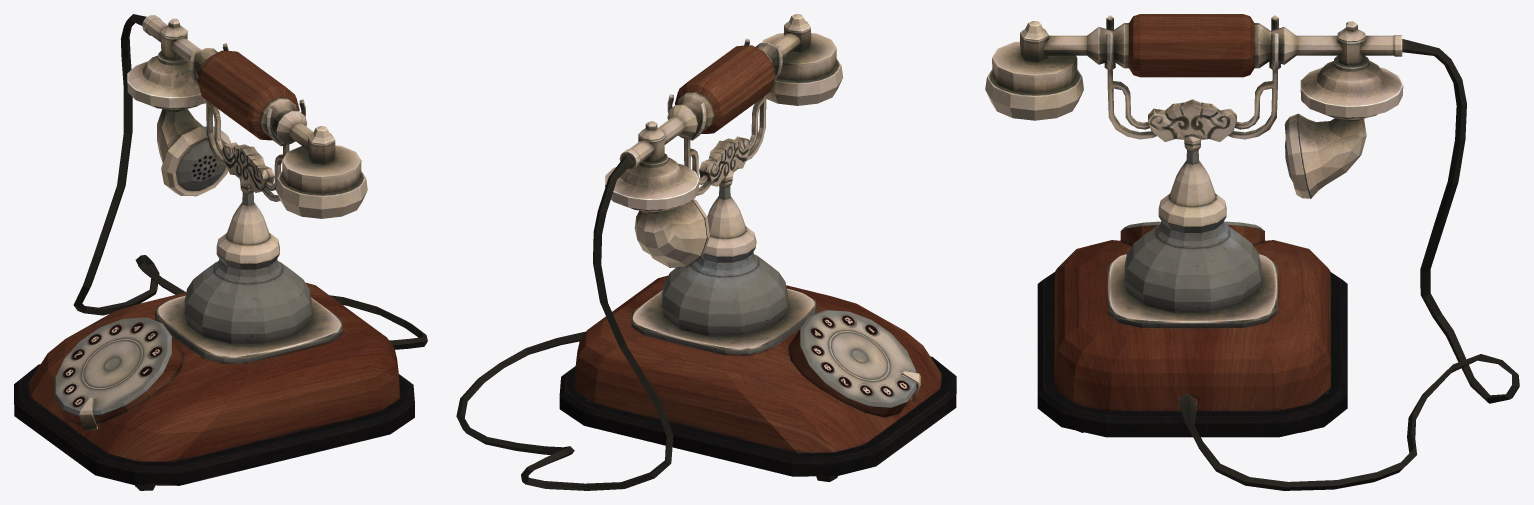
Rendered from 4LA4R8OPFNTD1V79Y7RMILG0E.obj.
3 views of the same model, side by side, from view 1: azimuth 30°, elevation 25°; view 2: azimuth 150°, elevation 25°; view 3: azimuth 270°, elevation 25° (orthographic). The views are drawn at different scales.
Parts seen in each view (by area): view 1: Object_TexMap; view 2: Object_TexMap; view 3: Object_TexMap.
Boxes of the visible parts, x1=… form: Object_TexMap: x1=14, y1=14, x2=427, y2=490; Object_TexMap: x1=456, y1=14, x2=956, y2=490; Object_TexMap: x1=985, y1=14, x2=1519, y2=490.
Size of the model in its own units: 2.32 by 1.91 by 2.5.
Materials: 1 (1 with a texture image).
